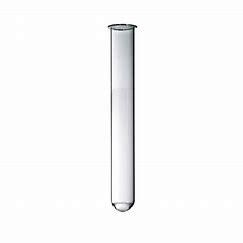Test tube: (99, 20, 150, 212)
